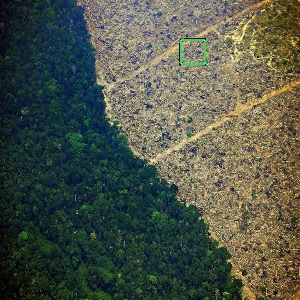square: (178, 37, 207, 66)
